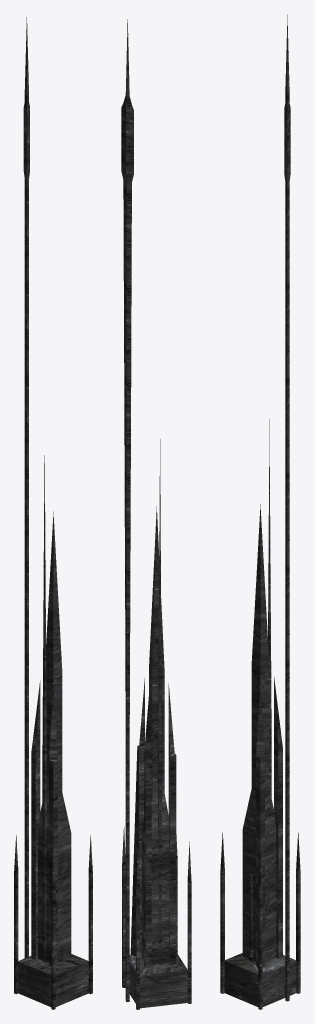
File: city_03.obj
3 renders of one model, left to right at view 1: azimuth 90°, elevation 25°; view 2: azimuth 150°, elevation 25°; view 3: azimuth 270°, elevation 25°, orthographic.
Parts seen in each view (by area): view 1: Cube.025_Cube.029; view 2: Cube.025_Cube.029; view 3: Cube.025_Cube.029.
Boxes of the visible parts, box(x1,y1,x2,y2) form: Cube.025_Cube.029: box(14, 17, 92, 1009); Cube.025_Cube.029: box(121, 19, 191, 1009); Cube.025_Cube.029: box(220, 14, 300, 1009).
Bounding box in the file's own units: 8.9 × 121 × 8.9.
Materials: 1 (1 with a texture image).
